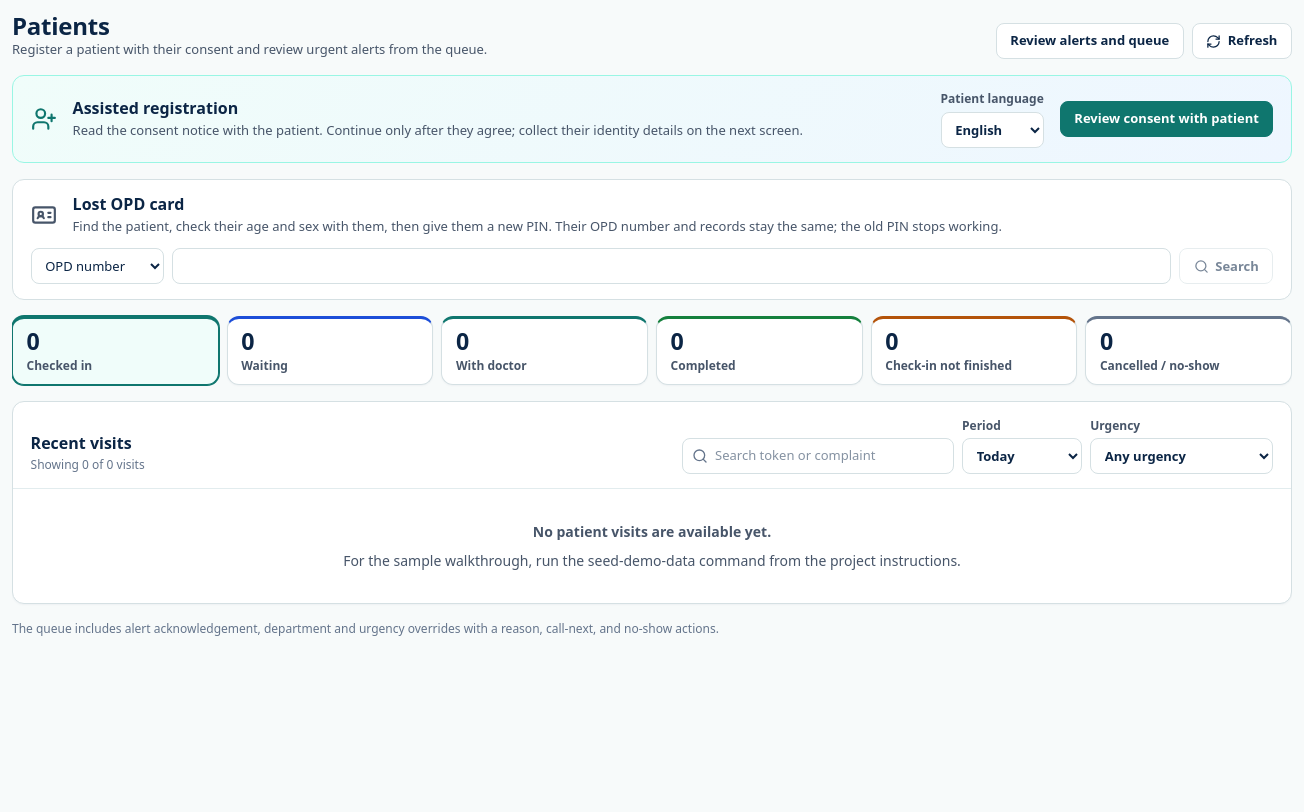
Phase 7.5 nurse assisted registration › starts an assigned nurse session and presents the consent copy first
This screenshot has width=1304, height=812.
Click the button "Review consent with patient". click: (1167, 119)
box: [1060,101,1273,137]
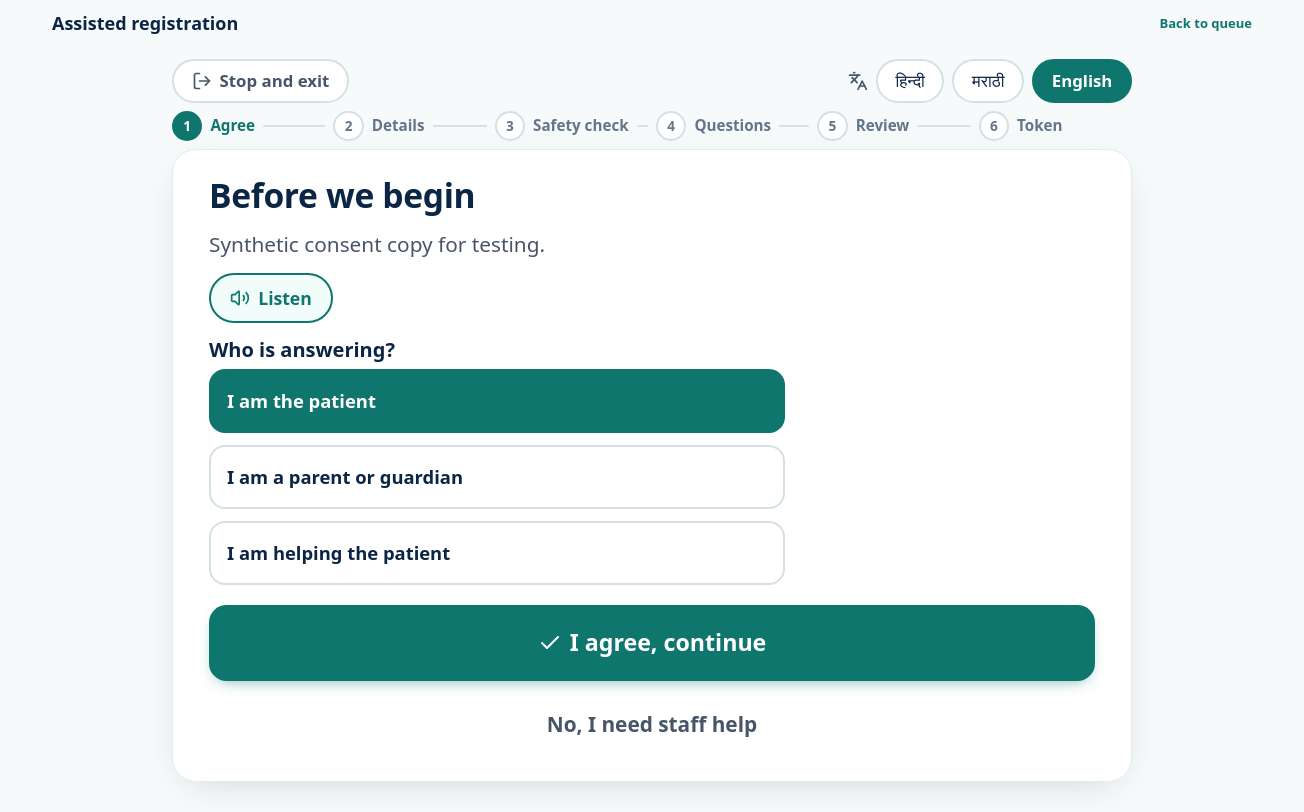
Expected: the text "Synthetic consent copy for testing." is shown, [209,230,545,258]
Click the button "I agree, continue". click: (652, 643)
box: [209,605,1095,681]
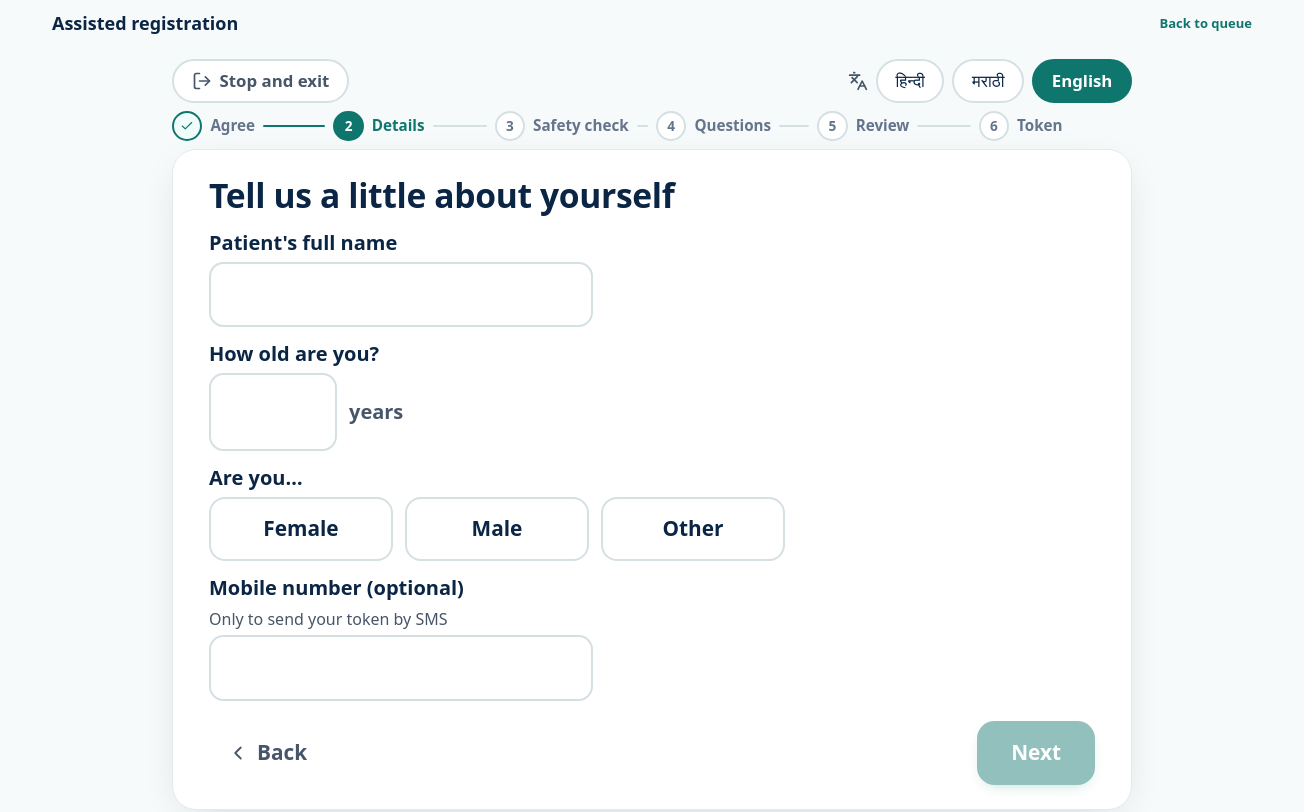
Expected: the field labelled "Patient's full name" is shown, [209,262,593,328]
